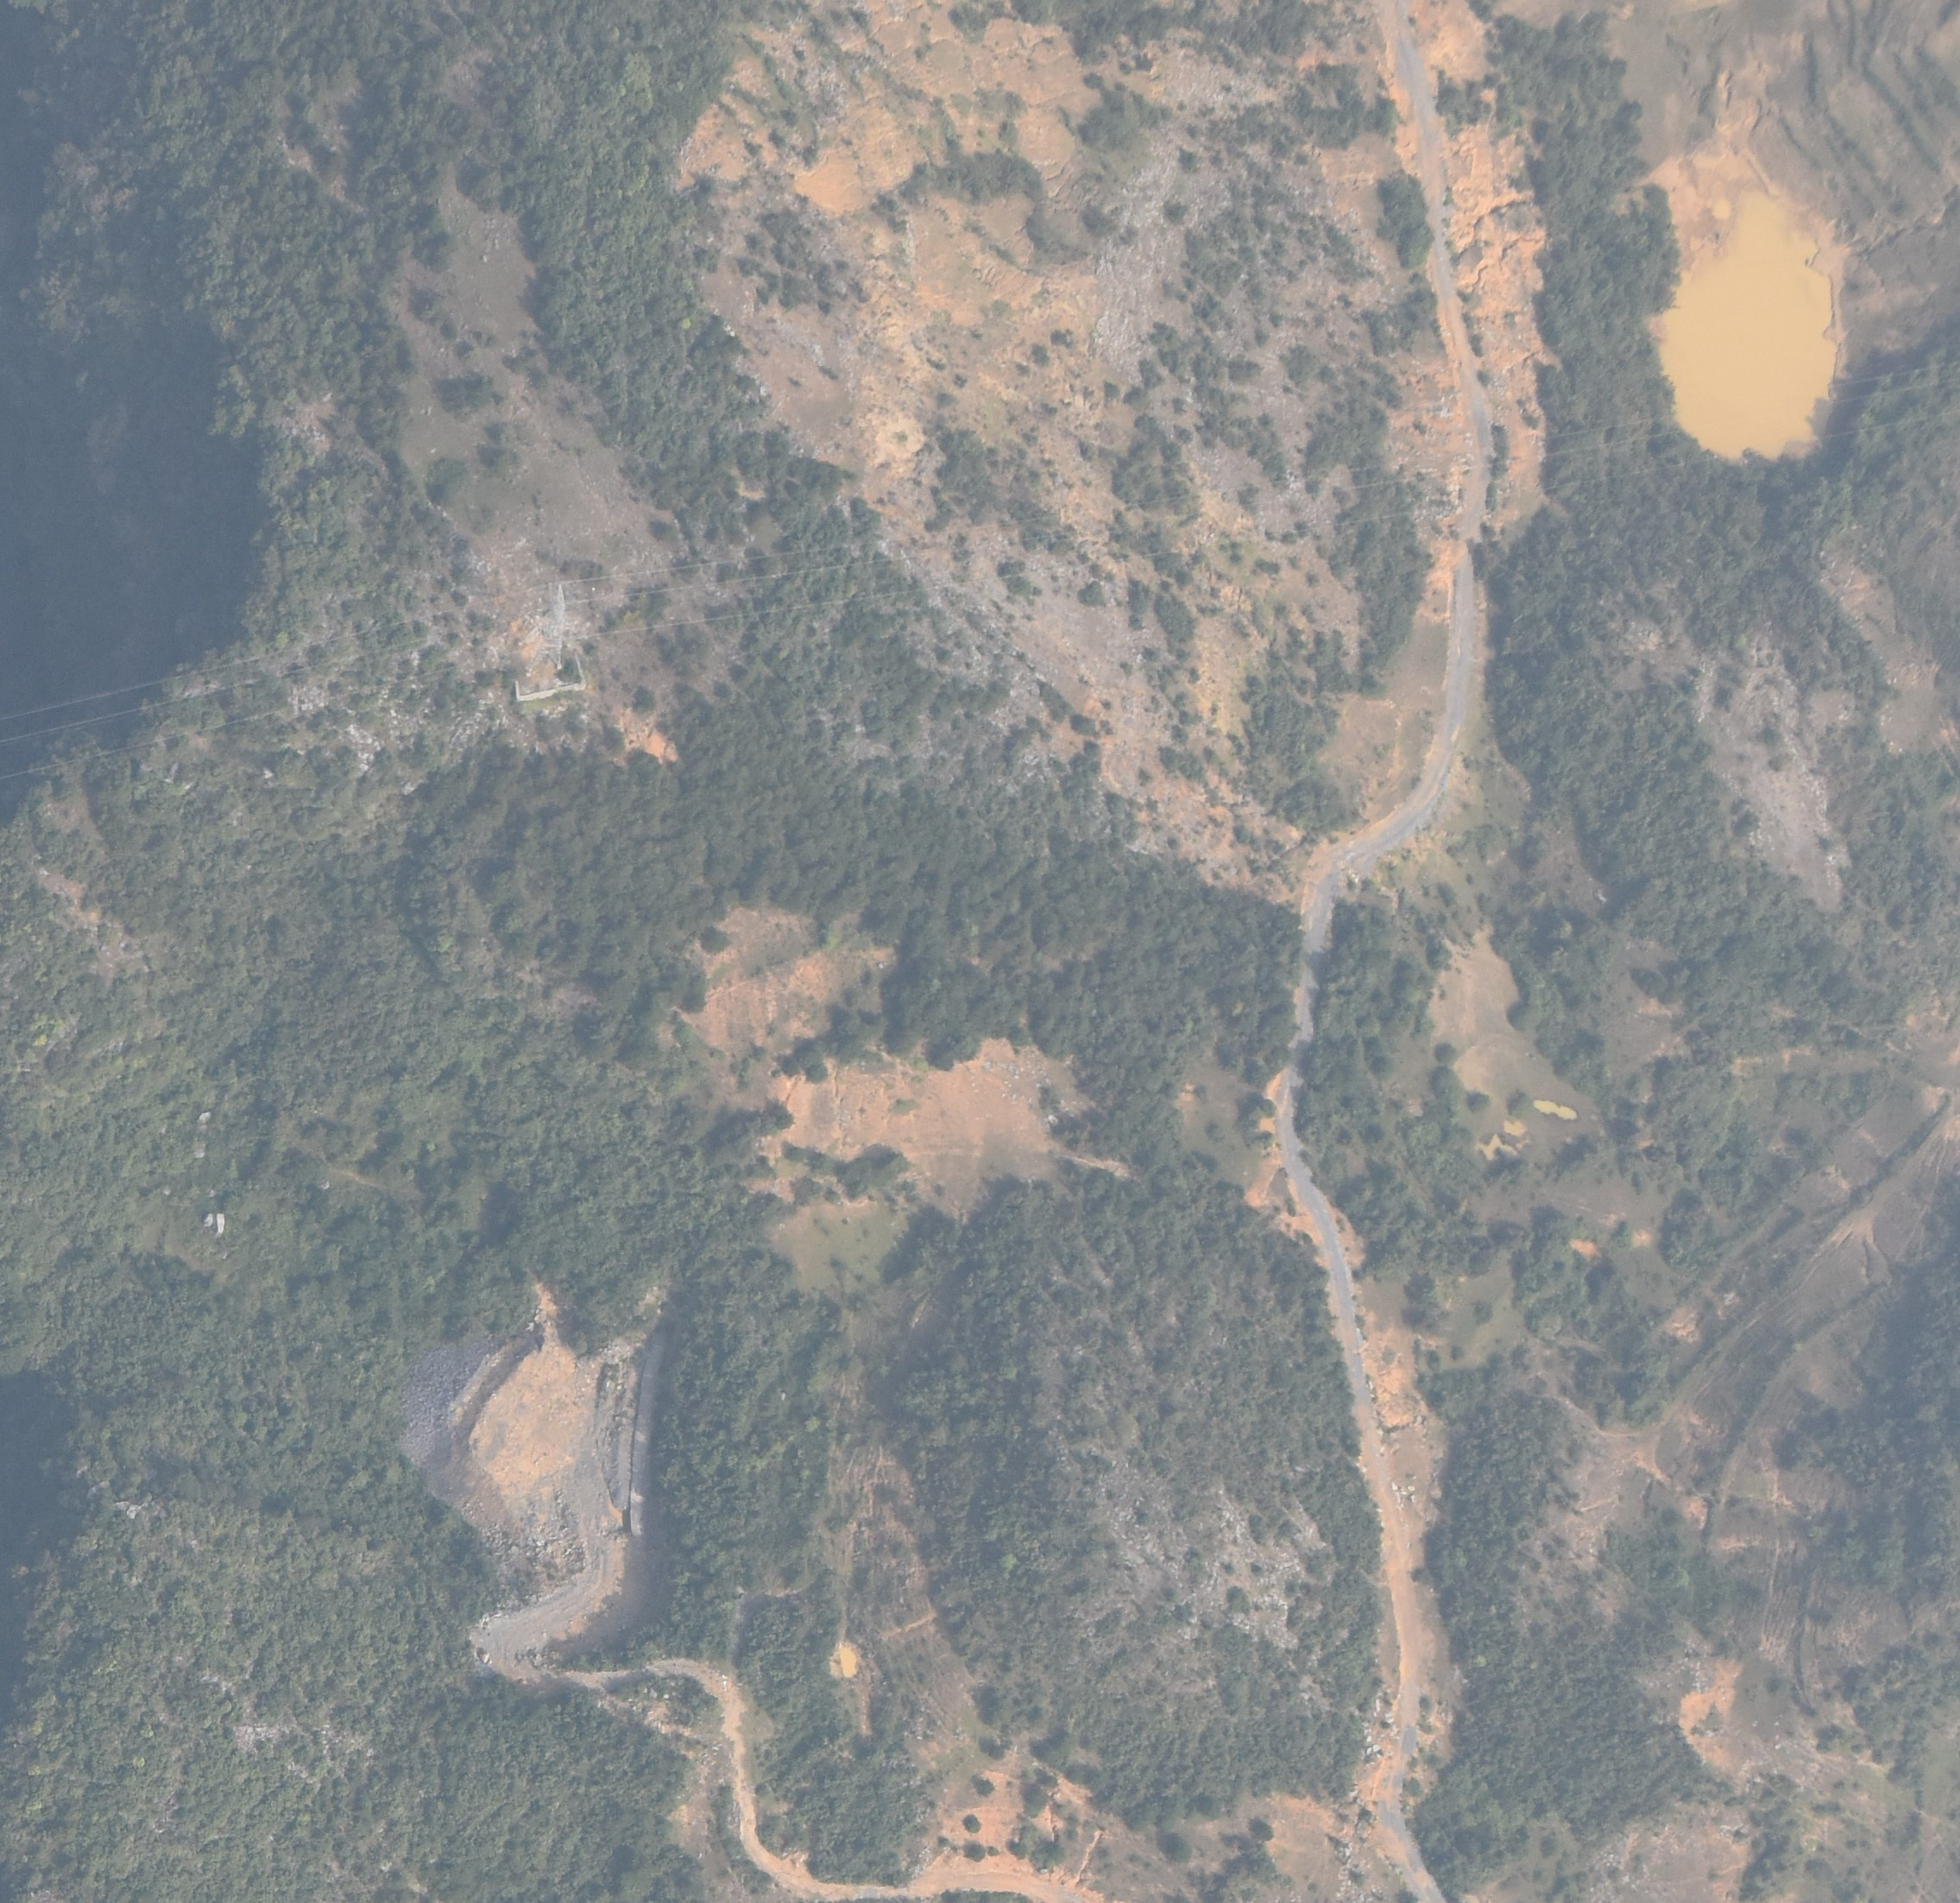cable-tower: (513, 583, 590, 699)
pool: (1652, 149, 1846, 466)
quarry: (406, 1289, 656, 1686)
